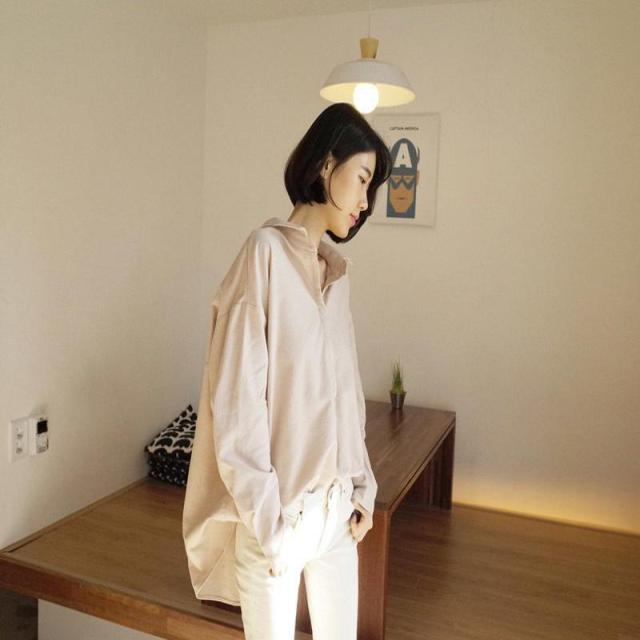long-sleeve-top: (220, 216, 386, 546)
trousers: (233, 556, 374, 636)
